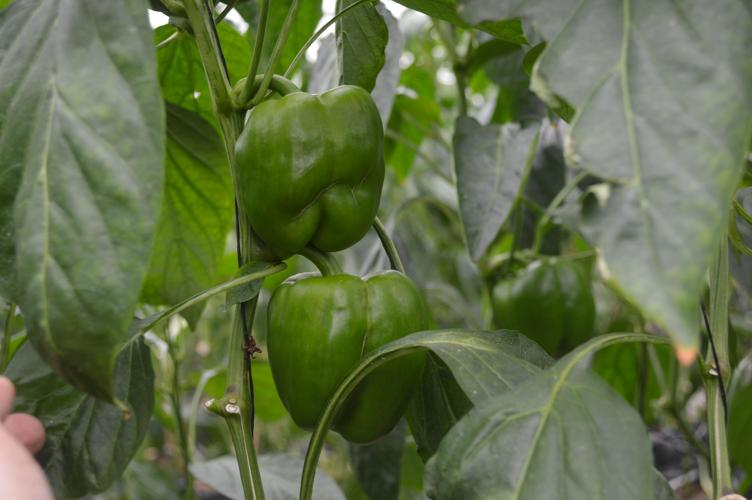BellPepper: (269, 269, 431, 438), (231, 85, 384, 254), (496, 256, 597, 351)
